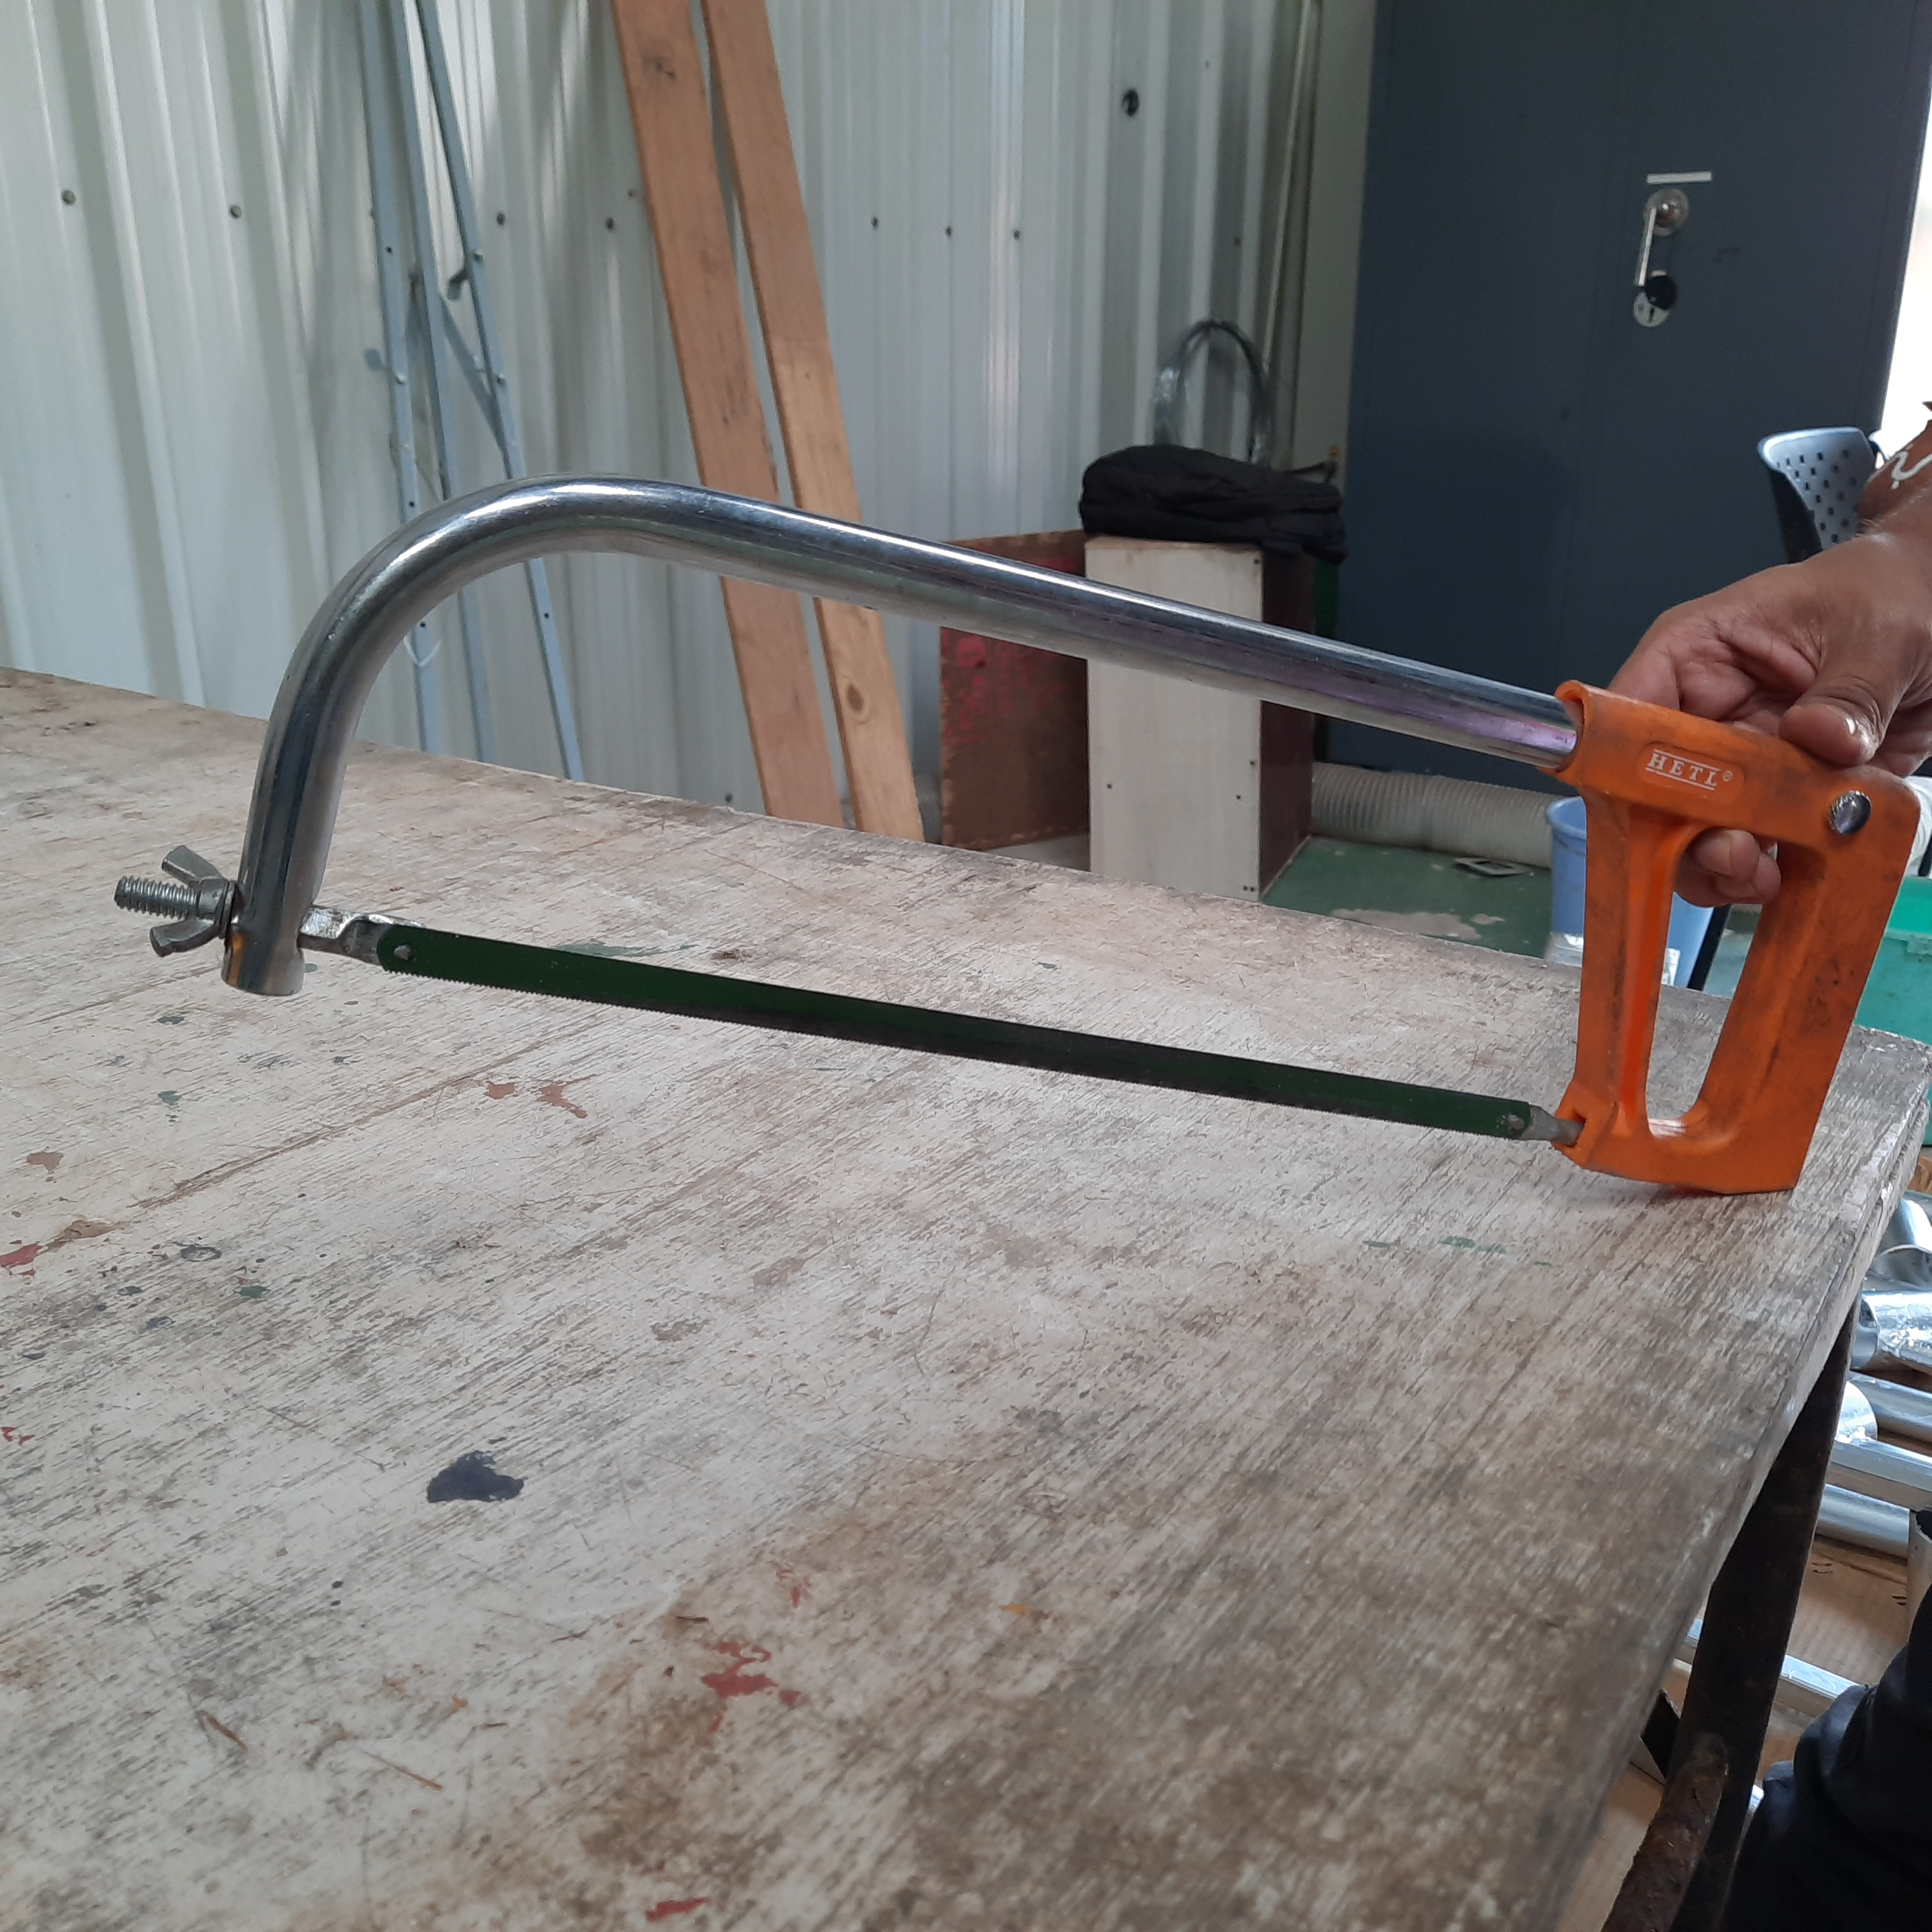Hexaframe: (80, 414, 1923, 1270)
